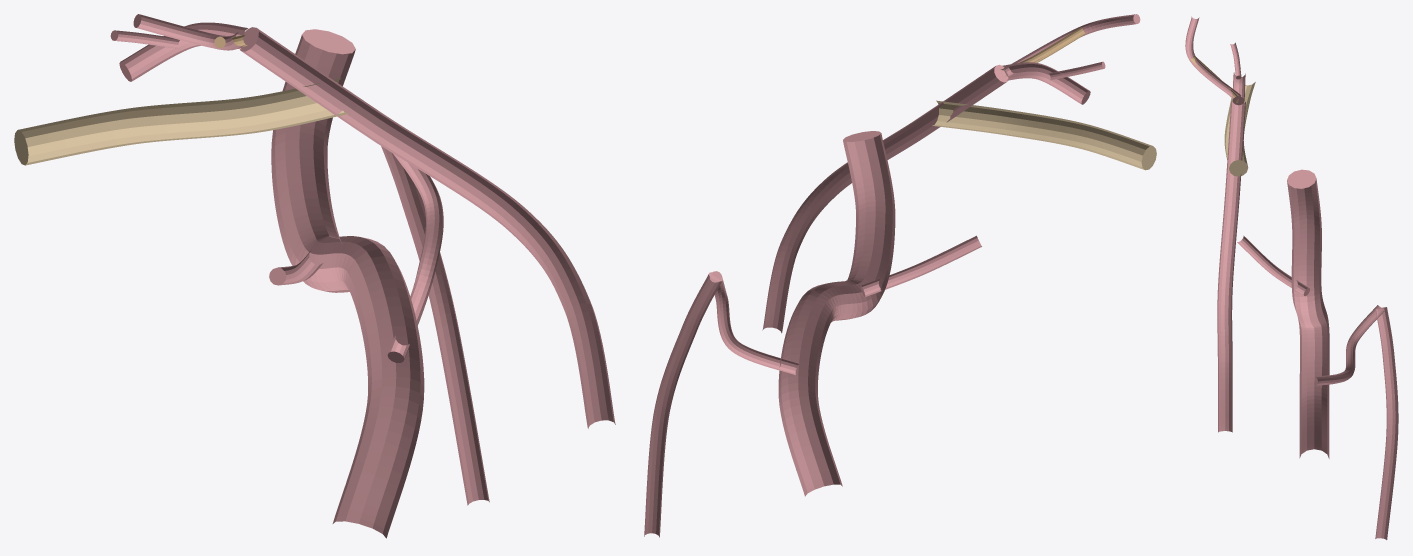
File: orbit_meningo.glb
The picture shows the model from 3 angles, left to right: view 1: azimuth 30°, elevation 25°; view 2: azimuth 150°, elevation 25°; view 3: azimuth 270°, elevation 25°; orthographic projection. The views are drawn at different scales.
Visible parts, largest first — view 1: ACI — segmento cavernoso, Artéria meníngea média, Nervo óptico — orientação, Artéria faríngea ascendente, Tronco meningohipofisário, Oftálmica dependente do sistema meníngeo — variante, Artéria lacrimal, Tronco inferolateral, Artéria central da retina — via meningo-oftálmica conceitual; view 2: ACI — segmento cavernoso, Artéria meníngea média, Nervo óptico — orientação, Artéria faríngea ascendente, Tronco meningohipofisário, Tronco inferolateral, Oftálmica dependente do sistema meníngeo — variante, Artéria lacrimal; view 3: ACI — segmento cavernoso, Artéria meníngea média, Artéria faríngea ascendente, Tronco meningohipofisário, Tronco inferolateral, Artéria lacrimal, Nervo óptico — orientação, Oftálmica dependente do sistema meníngeo — variante.
Boxes of the visible parts, x1,y1,x2,y2 form: ACI — segmento cavernoso: [271, 29, 424, 538]; Artéria meníngea média: [240, 27, 615, 428]; Nervo óptico — orientação: [14, 78, 349, 165]; Artéria faríngea ascendente: [381, 146, 489, 505]; Tronco meningohipofisário: [387, 153, 443, 362]; Oftálmica dependente do sistema meníngeo — variante: [119, 22, 247, 81]; Artéria lacrimal: [133, 14, 244, 50]; Tronco inferolateral: [269, 251, 323, 285]; Artéria central da retina — via meningo-oftálmica conceitual: [110, 30, 179, 48]; ACI — segmento cavernoso: [778, 131, 895, 496]; Artéria meníngea média: [762, 64, 1008, 333]; Nervo óptico — orientação: [932, 100, 1156, 170]; Artéria faríngea ascendente: [644, 272, 722, 537]; Tronco meningohipofisário: [710, 271, 799, 375]; Tronco inferolateral: [860, 235, 981, 296]; Oftálmica dependente do sistema meníngeo — variante: [1002, 62, 1090, 104]; Artéria lacrimal: [1003, 14, 1140, 77]; ACI — segmento cavernoso: [1287, 169, 1329, 458]; Artéria meníngea média: [1217, 101, 1245, 432]; Artéria faríngea ascendente: [1375, 307, 1398, 539]; Tronco meningohipofisário: [1315, 305, 1384, 385]; Tronco inferolateral: [1237, 235, 1309, 296]; Artéria lacrimal: [1185, 16, 1241, 98]; Nervo óptico — orientação: [1224, 82, 1255, 176]; Oftálmica dependente do sistema meníngeo — variante: [1232, 72, 1245, 105].
Bounding box in the file's own units: 4.89 × 5.86 × 2.87.
